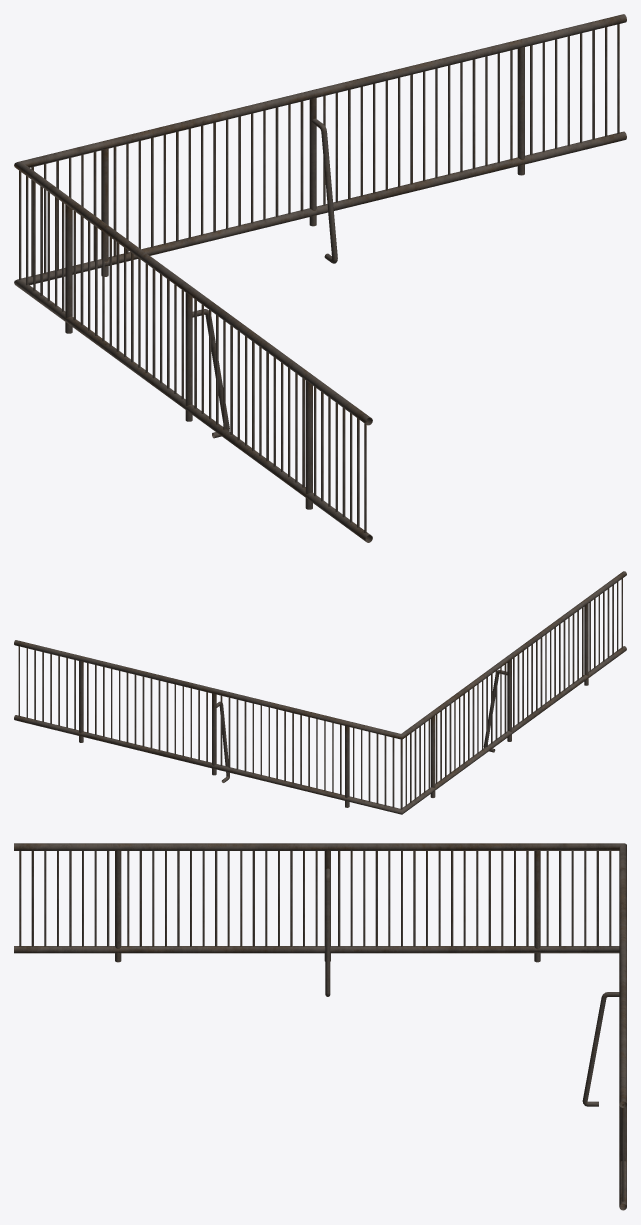
The model's file is SM_RoofFence_01_Corner.fbx.
The picture shows the model from 3 angles, top to bottom: view 1: azimuth 30°, elevation 25°; view 2: azimuth 150°, elevation 25°; view 3: azimuth 270°, elevation 25°; orthographic projection. The views are drawn at different scales.
Parts seen in each view (by area): view 1: SM_RoofFence_01_Corner_LOD0; view 2: SM_RoofFence_01_Corner_LOD0; view 3: SM_RoofFence_01_Corner_LOD0.
Part boxes in pixels (<box>): SM_RoofFence_01_Corner_LOD0: <box>14,14,626,542</box>; SM_RoofFence_01_Corner_LOD0: <box>14,571,626,814</box>; SM_RoofFence_01_Corner_LOD0: <box>14,843,626,1210</box>.
Bounding box in the file's own units: 488 × 488 × 121.
1 material, 1 textured.
